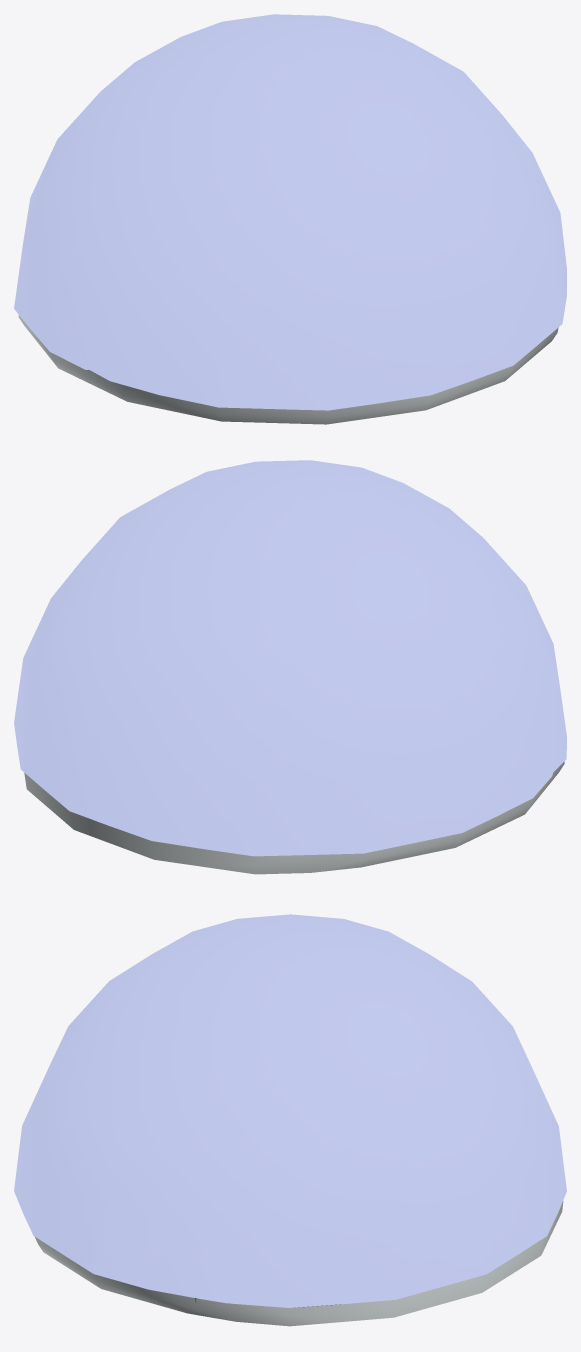
Rendered from pisaTower.dae.
3 views of the same model, one above another, from view 1: azimuth 30°, elevation 25°; view 2: azimuth 150°, elevation 25°; view 3: azimuth 270°, elevation 25° (orthographic).
Visible parts, largest first — view 1: sky, pCylinder44; view 2: sky, pCylinder44; view 3: sky, pCylinder44.
Part boxes in pixels (bbox=[...]): sky: bbox=[14, 14, 566, 410]; pCylinder44: bbox=[18, 315, 558, 424]; sky: bbox=[14, 460, 566, 856]; pCylinder44: bbox=[24, 761, 564, 874]; sky: bbox=[14, 914, 566, 1307]; pCylinder44: bbox=[34, 1201, 563, 1326].
Bounding box in the file's own units: 87.91 × 49.8 × 87.91.
